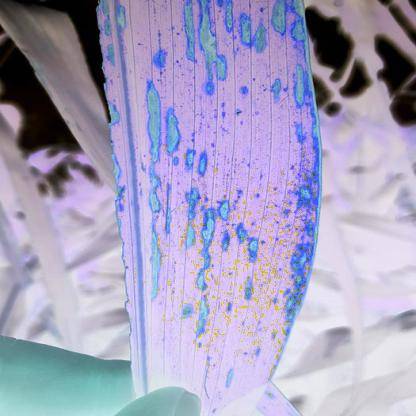Corn leaf blight: (87, 3, 327, 358)
